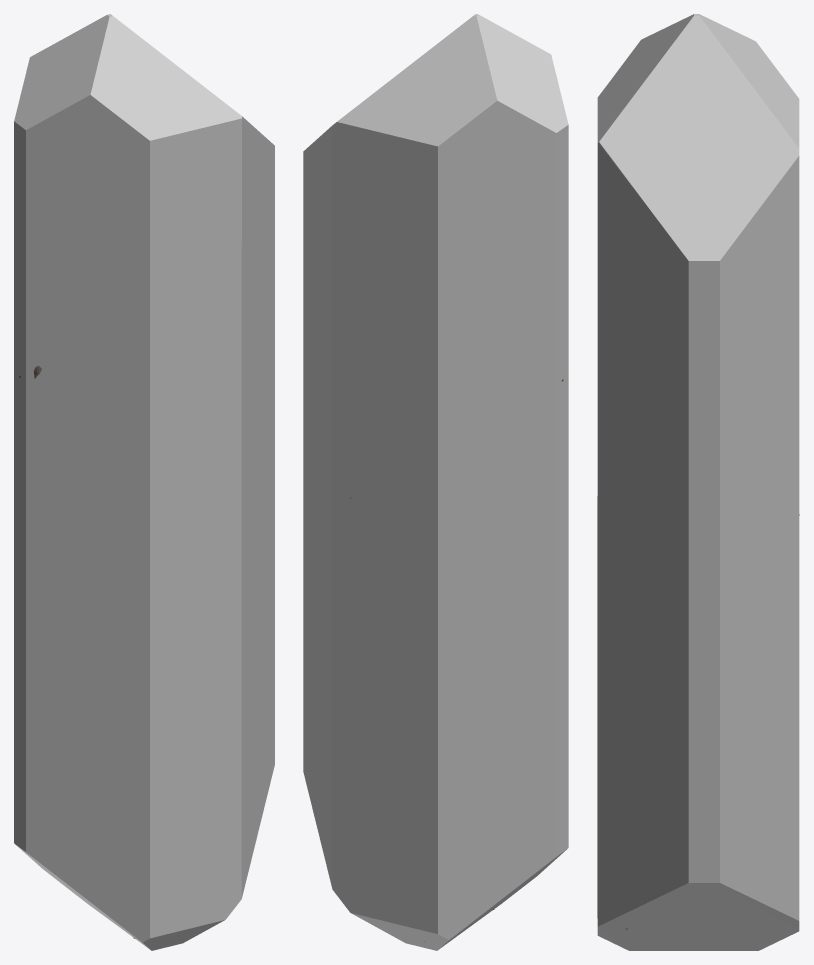
Rendered from SM_Hangman02.fbx.
3 views of the same model, side by side, from view 1: azimuth 30°, elevation 25°; view 2: azimuth 150°, elevation 25°; view 3: azimuth 270°, elevation 25° (orthographic).
Parts seen in each view (by area): view 1: SM_Hangman02_ConvexHulls; view 2: SM_Hangman02_ConvexHulls; view 3: SM_Hangman02_ConvexHulls.
Boxes of the visible parts, box(x1,y1,x2,y2) form: SM_Hangman02_ConvexHulls: box(14, 14, 274, 950); SM_Hangman02_ConvexHulls: box(303, 14, 568, 950); SM_Hangman02_ConvexHulls: box(597, 14, 799, 950).
Bounding box in the file's own units: 76.49 × 53.5 × 268.
